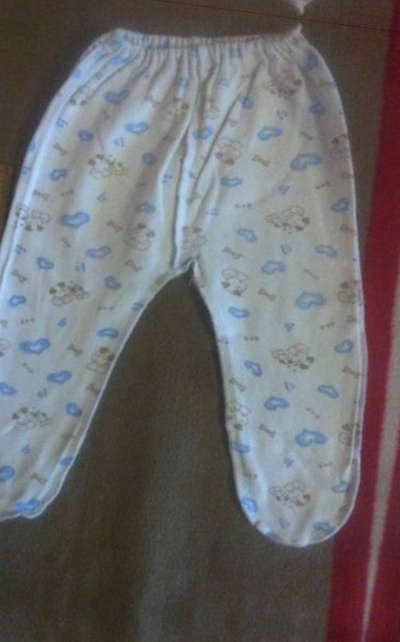Pants: (0, 0, 400, 565), (0, 0, 19, 512), (29, 0, 400, 23), (396, 52, 400, 623)
